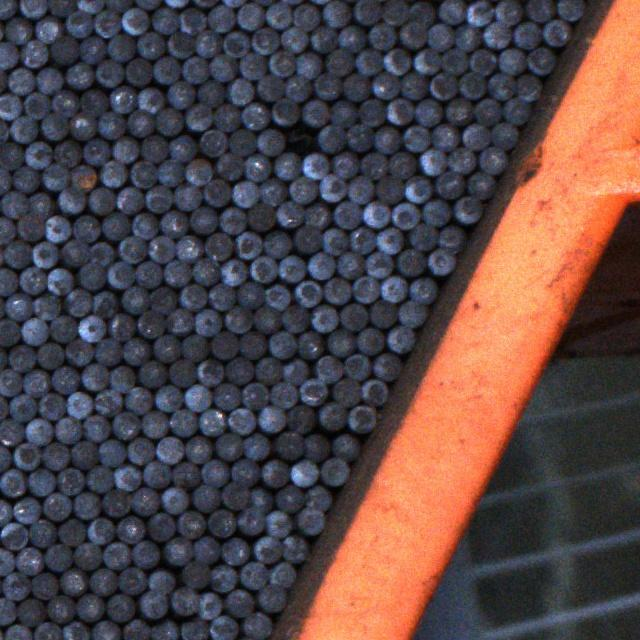tool: (140, 588, 170, 617), (223, 589, 252, 618), (258, 584, 288, 612), (206, 510, 235, 538), (0, 521, 28, 550), (296, 507, 325, 535), (170, 585, 198, 614), (104, 593, 133, 621), (243, 613, 273, 640), (274, 483, 302, 511), (350, 274, 378, 302), (118, 566, 146, 594), (200, 458, 228, 486), (94, 388, 122, 416), (46, 594, 74, 622), (199, 128, 227, 156), (76, 593, 104, 621), (203, 232, 231, 260), (24, 140, 52, 168), (89, 566, 117, 594), (101, 540, 129, 568), (44, 544, 72, 572), (256, 406, 284, 434), (398, 300, 426, 328), (272, 153, 300, 181), (490, 122, 518, 150), (172, 183, 200, 211), (190, 484, 218, 512), (264, 230, 292, 258), (74, 542, 102, 570), (318, 402, 346, 430), (185, 102, 213, 130), (478, 147, 506, 175), (18, 599, 46, 627), (503, 96, 531, 124), (163, 536, 191, 564), (239, 560, 267, 588), (106, 33, 134, 61), (131, 539, 159, 567), (398, 248, 426, 276), (73, 492, 101, 520), (287, 406, 315, 434), (435, 170, 463, 198), (77, 263, 105, 291), (386, 324, 414, 352), (232, 458, 260, 486), (332, 378, 360, 406), (130, 486, 158, 514), (50, 36, 78, 64), (57, 517, 85, 545), (69, 440, 96, 469), (17, 213, 44, 242), (180, 561, 209, 588), (156, 437, 183, 465), (97, 111, 125, 138), (153, 335, 180, 363), (318, 174, 346, 201), (272, 97, 300, 124), (300, 378, 328, 405), (336, 252, 364, 279), (348, 404, 375, 432), (453, 195, 481, 222), (19, 40, 46, 68), (236, 280, 264, 307), (338, 24, 365, 52), (330, 99, 358, 126), (224, 306, 252, 333), (167, 360, 195, 387), (112, 412, 140, 439), (12, 496, 40, 523), (334, 201, 361, 229), (238, 331, 265, 359), (382, 47, 410, 74), (176, 511, 203, 539), (240, 382, 267, 410), (526, 46, 554, 73), (354, 48, 381, 76), (369, 22, 396, 50), (27, 518, 54, 546), (137, 310, 164, 338), (225, 355, 252, 383), (56, 468, 84, 495), (136, 30, 163, 58), (42, 492, 69, 520), (373, 351, 400, 379), (125, 386, 153, 413), (16, 547, 43, 575), (117, 236, 144, 264), (8, 115, 36, 142), (95, 59, 122, 87), (61, 240, 89, 267), (193, 535, 220, 563), (209, 332, 236, 360), (94, 338, 121, 366), (146, 514, 173, 542), (229, 128, 256, 156), (338, 303, 366, 330), (189, 206, 216, 234), (328, 329, 355, 357), (148, 568, 176, 595), (314, 356, 342, 383), (238, 52, 266, 79), (404, 174, 432, 201), (222, 537, 249, 565), (80, 89, 108, 116), (64, 288, 91, 316), (295, 225, 322, 253), (369, 299, 396, 327), (206, 5, 233, 33), (126, 438, 154, 465), (326, 49, 354, 76), (82, 364, 110, 391), (253, 357, 280, 385), (274, 431, 302, 458), (255, 536, 282, 564), (280, 305, 307, 333), (160, 209, 187, 237), (166, 30, 194, 57), (409, 223, 437, 250), (303, 434, 330, 462), (1, 571, 28, 599), (342, 74, 369, 102), (102, 488, 129, 516), (319, 124, 346, 152), (31, 572, 58, 600), (209, 564, 236, 592), (398, 22, 426, 49), (59, 568, 86, 596), (291, 458, 319, 485), (376, 174, 403, 202), (220, 482, 248, 509), (4, 240, 31, 268), (512, 21, 540, 48), (236, 507, 264, 534), (467, 171, 495, 198), (42, 442, 70, 469), (197, 80, 224, 108), (146, 236, 173, 263), (252, 27, 279, 54), (379, 275, 406, 302), (268, 332, 295, 359), (8, 345, 35, 372), (12, 443, 39, 470), (215, 432, 242, 459), (185, 384, 212, 411), (121, 6, 148, 33), (294, 280, 321, 307), (234, 231, 261, 258), (219, 206, 246, 233), (144, 460, 171, 487), (169, 409, 196, 436), (64, 339, 91, 366), (185, 159, 212, 186), (198, 408, 225, 435), (117, 515, 144, 542), (11, 165, 38, 192), (122, 285, 149, 312), (427, 248, 454, 275), (361, 153, 388, 180), (110, 87, 137, 114), (5, 292, 32, 319), (79, 37, 106, 64), (202, 178, 229, 205), (248, 203, 275, 230), (48, 315, 75, 342), (290, 175, 317, 202), (150, 286, 177, 313), (499, 48, 526, 75), (457, 71, 484, 98), (462, 124, 489, 151), (34, 67, 61, 94), (357, 328, 384, 355), (228, 408, 255, 435), (258, 128, 285, 155), (86, 466, 113, 493), (160, 487, 187, 514), (322, 457, 349, 484), (185, 437, 212, 464), (102, 212, 129, 239), (431, 73, 458, 100), (242, 433, 269, 460), (302, 153, 329, 180), (165, 308, 192, 335), (265, 510, 292, 537), (333, 434, 360, 461), (474, 98, 501, 125), (236, 2, 263, 29), (376, 227, 403, 254), (277, 254, 304, 281), (399, 72, 426, 99), (126, 110, 153, 137), (5, 17, 32, 44), (483, 22, 510, 49), (27, 467, 54, 494), (137, 88, 164, 115), (209, 55, 236, 82), (34, 16, 61, 43), (343, 352, 370, 379), (167, 82, 193, 110), (280, 534, 306, 562), (275, 200, 303, 226), (386, 96, 412, 124), (154, 56, 180, 84), (543, 20, 571, 46), (432, 124, 458, 152), (346, 124, 372, 152), (192, 258, 218, 286), (156, 107, 182, 135), (123, 337, 149, 365), (262, 460, 288, 488), (74, 214, 100, 242), (207, 282, 233, 310), (297, 332, 323, 360), (22, 92, 48, 120), (418, 148, 446, 174), (126, 58, 152, 86), (220, 260, 248, 286), (365, 251, 393, 277), (93, 8, 119, 36), (23, 369, 49, 397), (446, 146, 474, 172), (402, 126, 430, 152), (466, 0, 494, 26), (486, 74, 514, 100), (222, 31, 250, 57), (151, 8, 179, 34), (312, 72, 340, 98), (257, 75, 285, 101), (421, 199, 449, 225), (40, 113, 68, 139), (410, 277, 438, 303), (252, 306, 278, 334), (227, 78, 253, 106), (251, 257, 278, 283), (20, 266, 46, 293), (308, 251, 334, 278), (156, 385, 182, 412), (348, 176, 374, 203), (164, 261, 190, 288), (65, 391, 91, 418), (37, 393, 64, 419), (106, 262, 132, 289), (157, 159, 183, 186), (22, 317, 48, 344), (321, 0, 348, 26), (8, 68, 34, 95), (171, 462, 198, 488), (43, 163, 70, 189), (309, 306, 336, 332), (140, 134, 166, 161), (178, 284, 205, 310), (132, 213, 158, 240), (134, 262, 160, 289), (46, 216, 72, 243), (46, 267, 72, 294), (30, 242, 57, 268), (280, 26, 306, 53), (138, 361, 164, 388), (348, 228, 374, 255), (65, 9, 91, 36), (414, 98, 440, 125), (244, 155, 270, 182), (183, 56, 209, 83), (129, 162, 156, 188), (360, 378, 386, 405), (445, 98, 471, 125), (87, 518, 114, 544), (10, 393, 36, 420), (372, 71, 398, 98), (217, 154, 244, 180), (323, 228, 349, 255), (214, 103, 240, 130), (195, 30, 221, 57), (359, 99, 385, 126), (117, 187, 143, 214), (323, 277, 349, 304), (373, 126, 399, 153), (301, 100, 328, 126), (270, 380, 296, 407), (182, 334, 208, 361), (115, 465, 142, 491), (442, 48, 468, 75), (470, 49, 497, 75), (141, 411, 167, 438), (54, 140, 80, 167), (98, 439, 124, 466), (241, 102, 268, 128), (83, 415, 109, 442), (332, 152, 358, 179), (52, 90, 78, 117), (391, 202, 418, 228), (54, 416, 81, 442), (214, 382, 240, 409), (388, 152, 414, 179), (174, 235, 200, 262), (260, 177, 286, 204), (144, 186, 170, 213), (195, 309, 221, 336), (269, 52, 296, 78), (79, 314, 105, 341), (65, 62, 92, 88), (88, 186, 114, 213), (52, 365, 78, 392), (169, 134, 196, 160), (58, 185, 85, 211), (305, 202, 331, 229), (305, 484, 332, 510), (439, 226, 466, 252), (266, 1, 292, 28), (26, 418, 53, 444), (32, 293, 59, 319), (178, 8, 204, 35), (495, 0, 523, 25), (100, 159, 125, 187), (209, 615, 237, 640), (0, 467, 25, 495), (196, 360, 222, 386), (362, 202, 388, 228), (232, 180, 258, 206), (310, 26, 336, 52), (113, 136, 139, 162), (516, 75, 542, 101), (108, 366, 134, 392), (38, 342, 64, 368), (294, 3, 320, 29), (84, 138, 110, 164), (268, 561, 294, 587), (453, 24, 479, 50), (266, 282, 292, 308), (296, 53, 322, 79), (281, 358, 307, 384), (69, 112, 95, 138), (284, 76, 310, 102), (427, 24, 452, 51), (108, 314, 133, 341), (0, 190, 25, 217), (93, 291, 118, 318), (198, 590, 222, 618), (181, 616, 209, 640), (414, 49, 440, 74), (72, 166, 97, 192), (410, 1, 435, 27), (27, 191, 52, 217), (352, 0, 380, 23), (152, 618, 181, 640), (439, 0, 465, 24), (90, 242, 116, 266), (382, 0, 408, 24), (251, 487, 275, 513), (124, 618, 152, 640), (0, 418, 23, 444), (524, 0, 552, 21), (90, 620, 119, 640), (0, 369, 21, 396), (556, 0, 584, 20), (0, 94, 21, 120), (0, 143, 21, 169), (62, 621, 89, 640), (33, 622, 61, 640), (0, 318, 18, 345), (0, 267, 16, 295), (19, 0, 45, 17), (47, 0, 76, 15), (5, 624, 32, 640), (0, 41, 16, 67), (0, 598, 15, 624), (0, 218, 14, 245), (0, 547, 13, 574), (78, 0, 105, 13), (104, 0, 132, 12), (0, 498, 12, 525), (0, 444, 11, 472), (0, 166, 10, 195), (0, 0, 16, 18), (134, 0, 161, 9), (0, 394, 8, 421), (0, 118, 8, 143), (191, 0, 219, 7), (164, 0, 189, 7), (220, 0, 248, 6), (0, 345, 6, 373), (251, 0, 279, 5), (0, 67, 5, 95)
tool_b: (284, 125, 318, 156)
